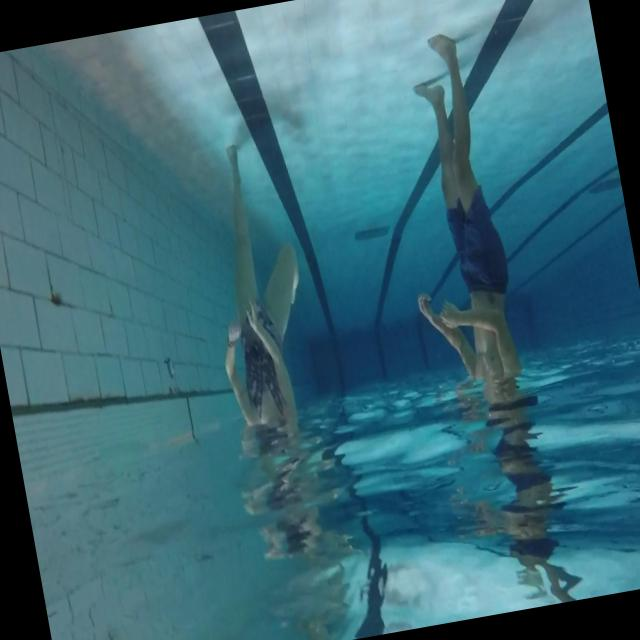human: (372, 29, 533, 420), (186, 136, 331, 468)
